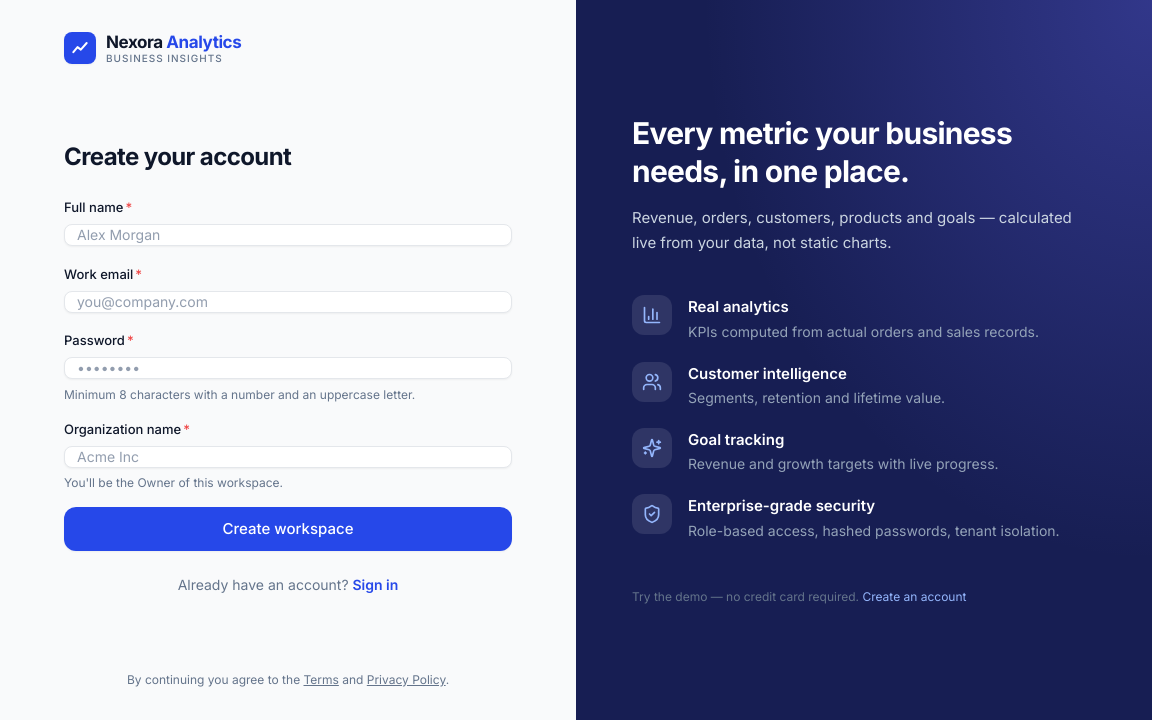
Test case: RegisterPage form validation › rejects a weak password with a specific hint
Type "weak" into the password field labelled "Password*" at (288, 368), box [64,357,512,379]
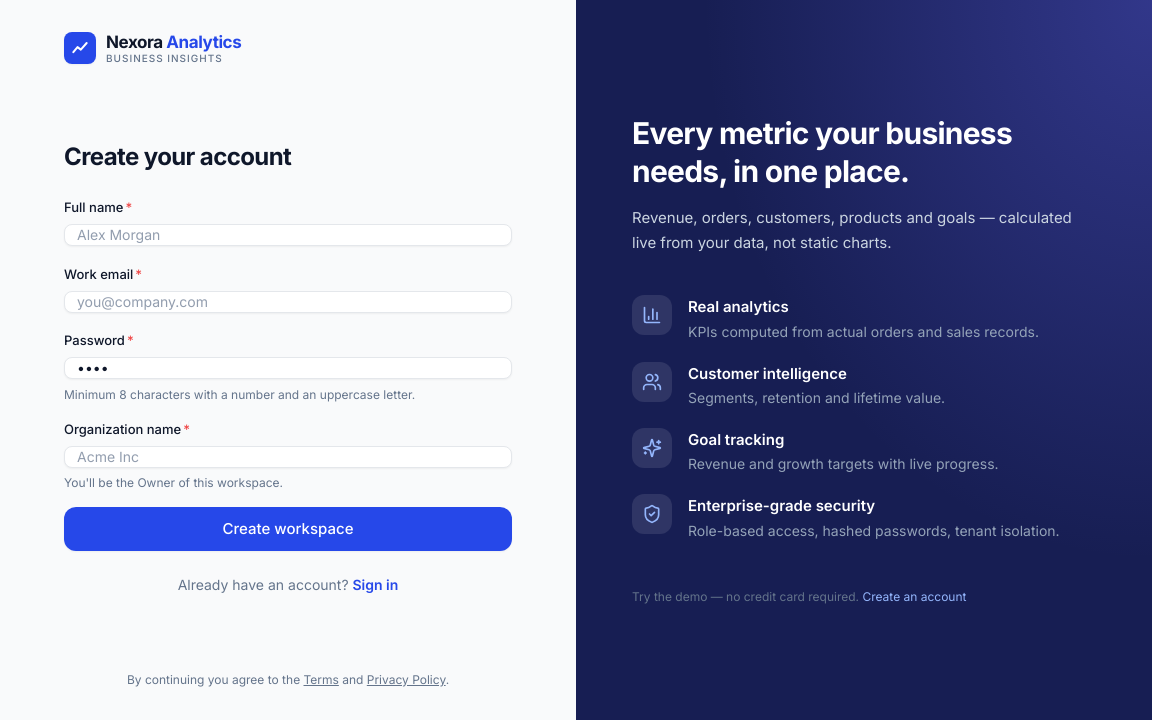
Click the button "Create workspace" at (288, 529), box [64,507,512,551]
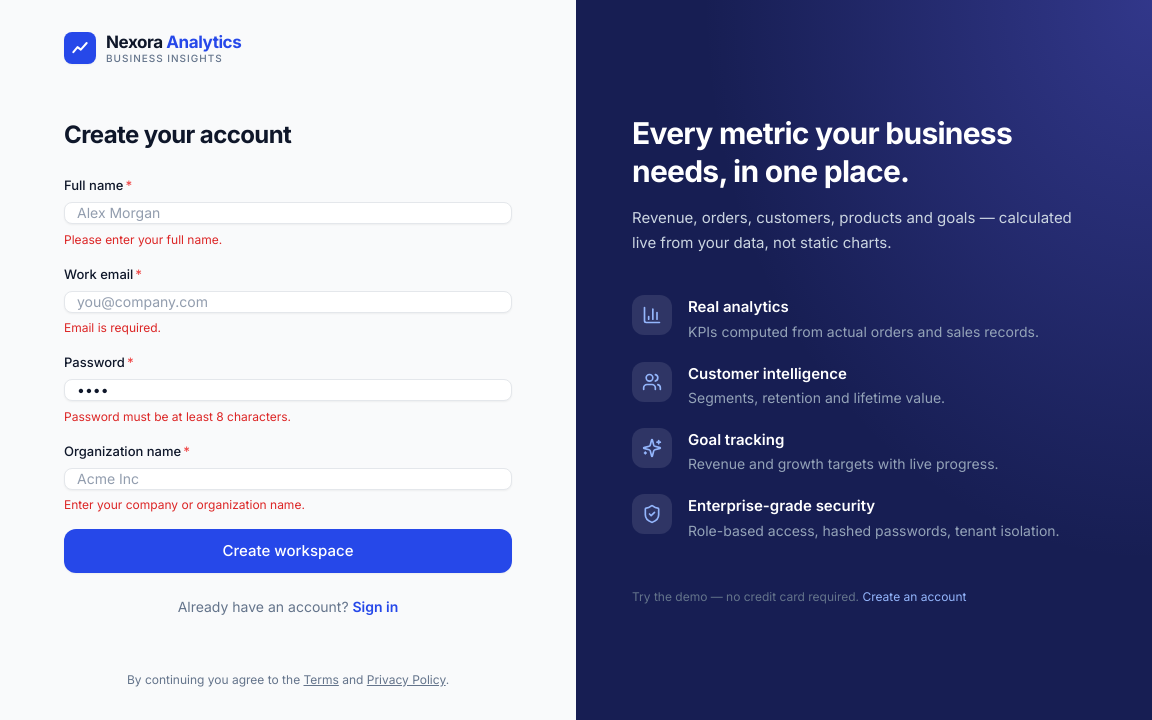
Expected: the text "Password must be at least 8 characters." is shown, [64,408,291,424]
